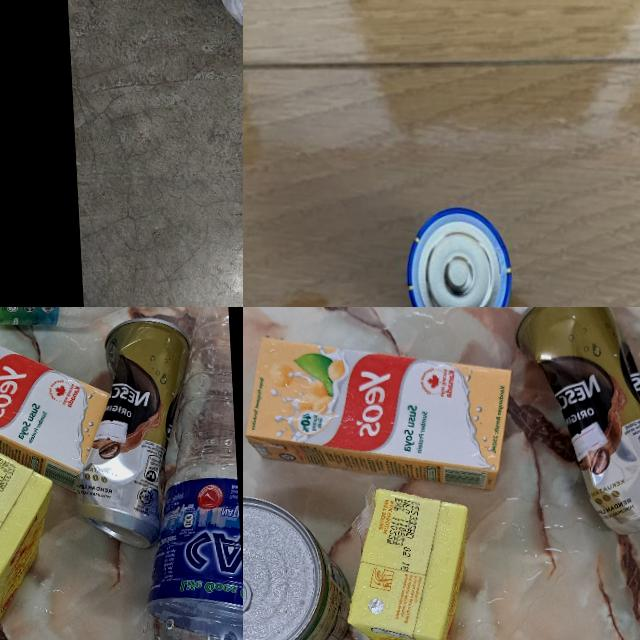aba de lata: (243, 564, 257, 636)
bateria: (405, 203, 517, 307)
caixinha: (243, 326, 516, 502), (341, 483, 480, 640), (0, 526, 180, 640), (0, 307, 111, 491), (0, 441, 52, 627)
garrafa plástica: (134, 307, 243, 640)
lata: (65, 308, 207, 552), (515, 307, 640, 540), (243, 492, 351, 640)
